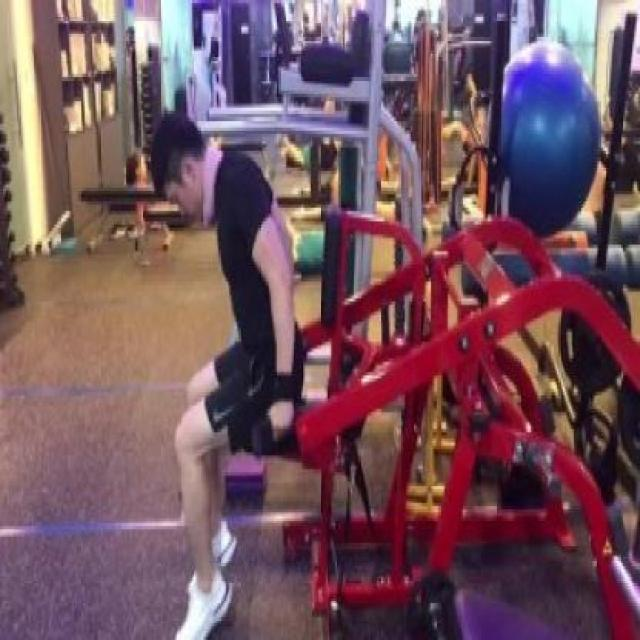seated dip machine: (252, 197, 640, 640)
